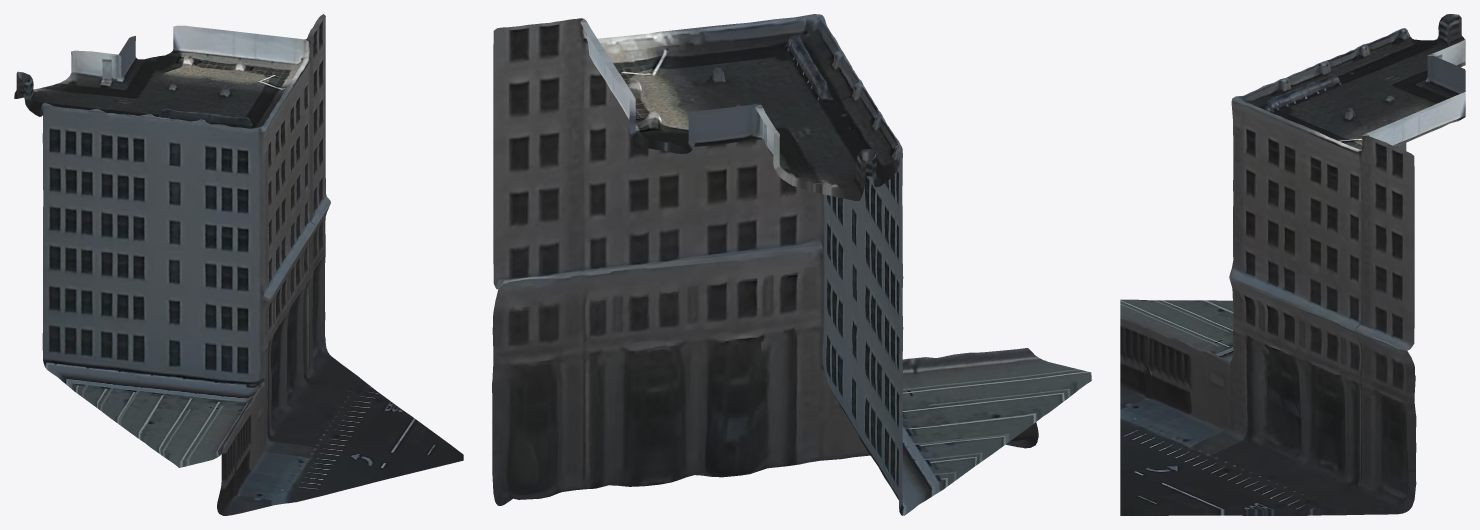
Rendered from z20-167783-405231-h0-yup-uvflip-v3-world.glb.
The picture shows the model from 3 angles, left to right: view 1: azimuth 30°, elevation 25°; view 2: azimuth 150°, elevation 25°; view 3: azimuth 270°, elevation 25°; orthographic projection. The views are drawn at different scales.
Size of the model in its own units: 30.2 by 34.96 by 30.32.
1 material, 1 textured.
